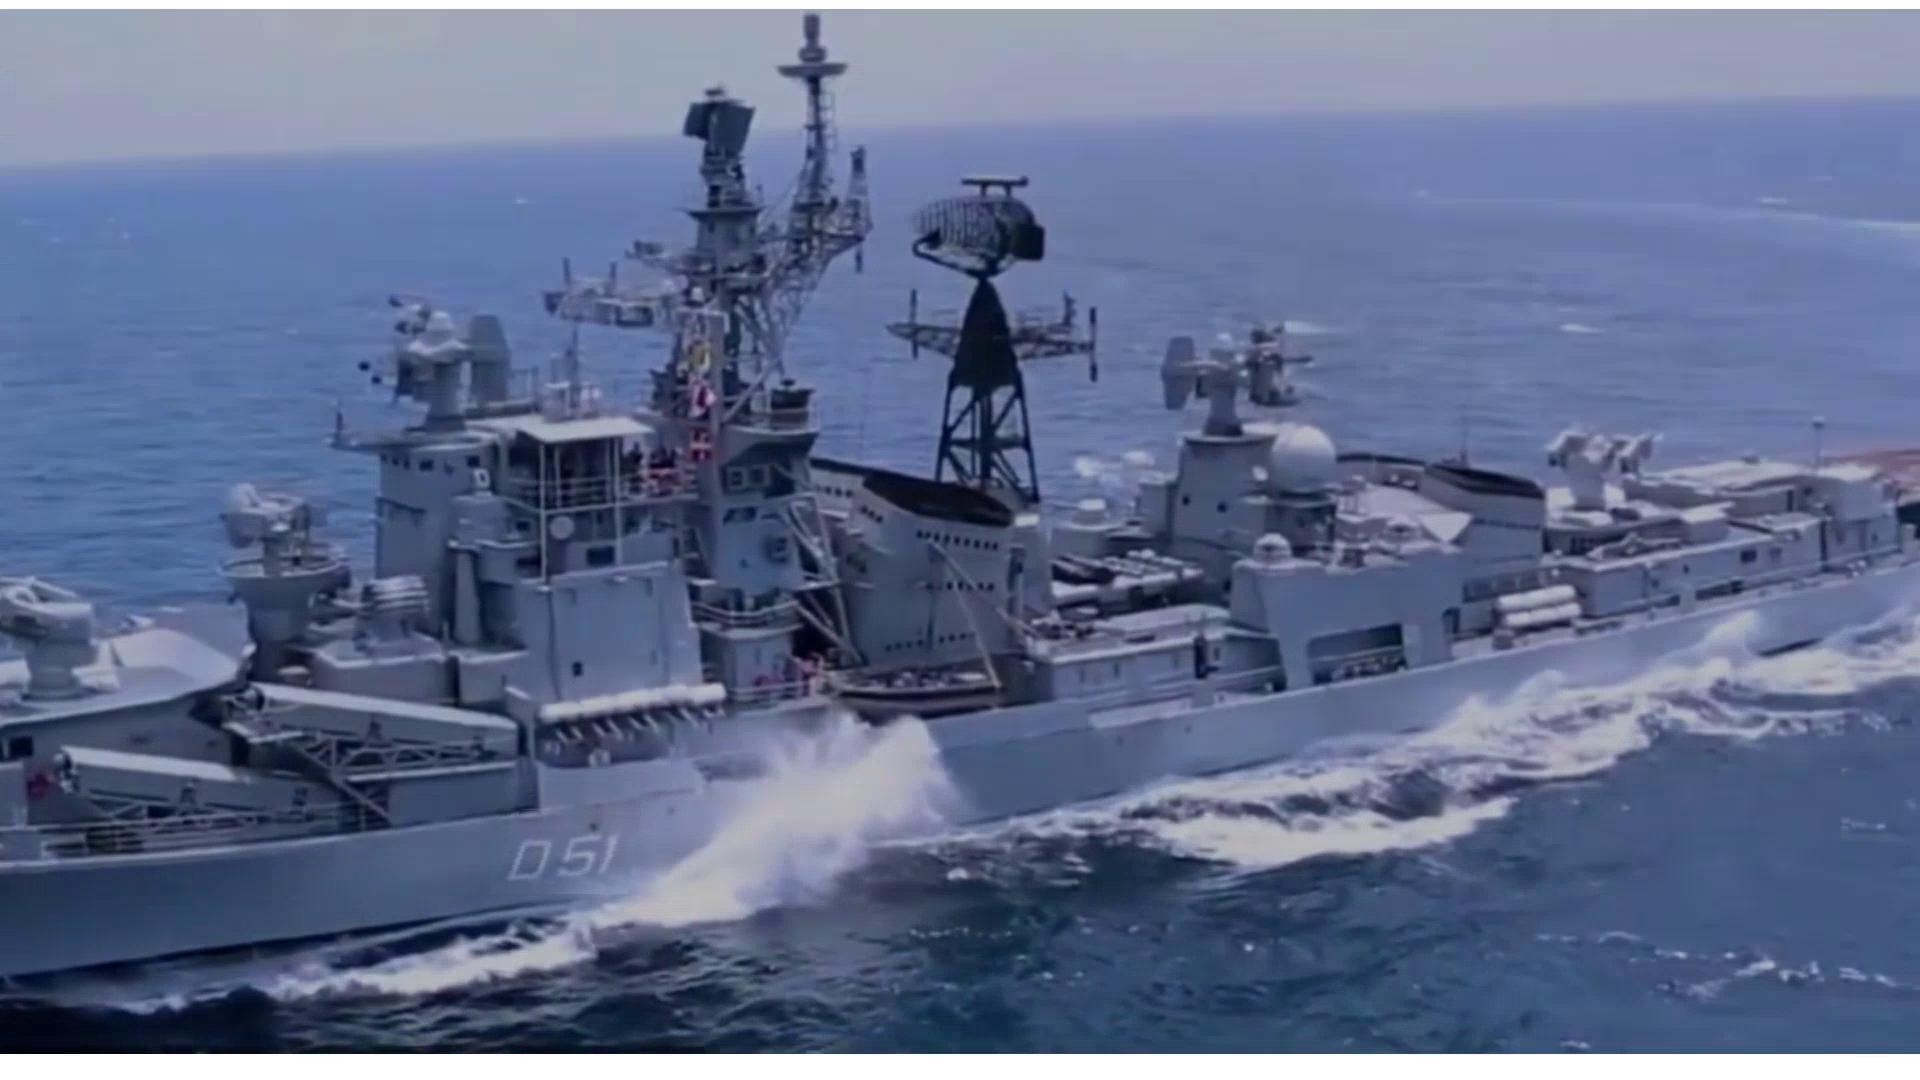OCR: (489, 808, 641, 894)
